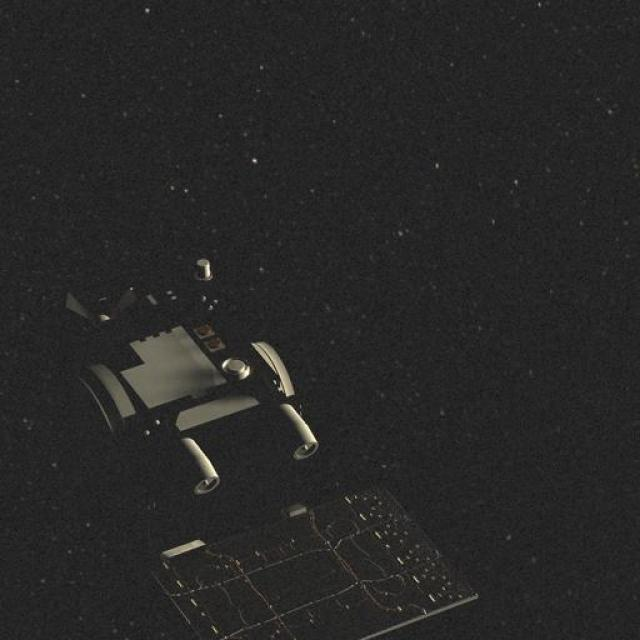proba_3_csc: (27, 276, 494, 640)
